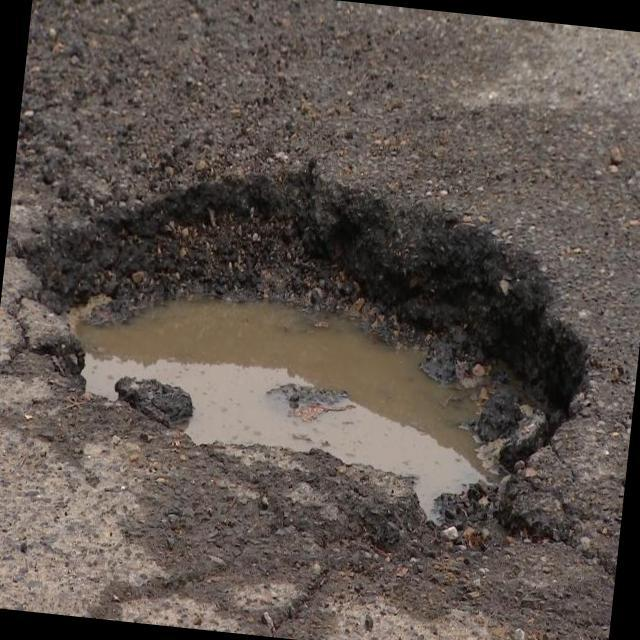Pothole: (7, 171, 587, 510)
